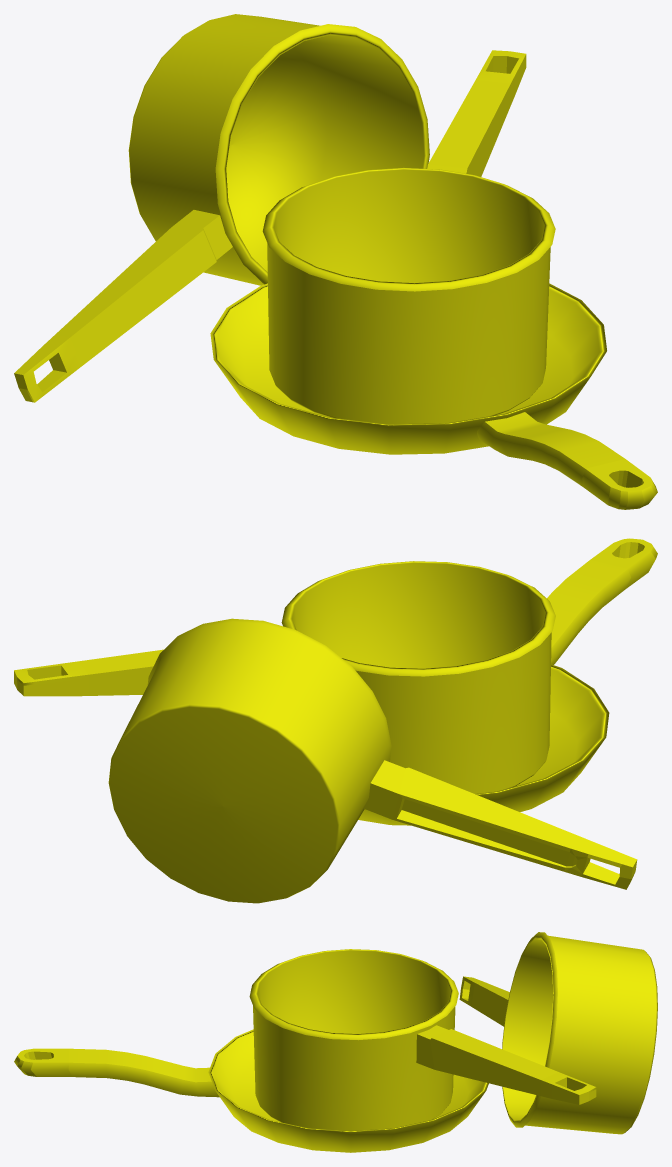
Rendered from Pan_Pile_01_Lod0.fbx.
3 renders of one model, top to bottom at view 1: azimuth 30°, elevation 25°; view 2: azimuth 150°, elevation 25°; view 3: azimuth 270°, elevation 25°, orthographic. The views are drawn at different scales.
Parts seen in each view (by area): view 1: Pan_Pile_01_Lod0; view 2: Pan_Pile_01_Lod0; view 3: Pan_Pile_01_Lod0.
Part boxes in pixels (x1,y1,x2,y2): Pan_Pile_01_Lod0: [14, 14, 657, 509]; Pan_Pile_01_Lod0: [14, 538, 657, 903]; Pan_Pile_01_Lod0: [14, 932, 657, 1152].
Bounding box in the file's own units: 68.19 × 29.65 × 90.78.
